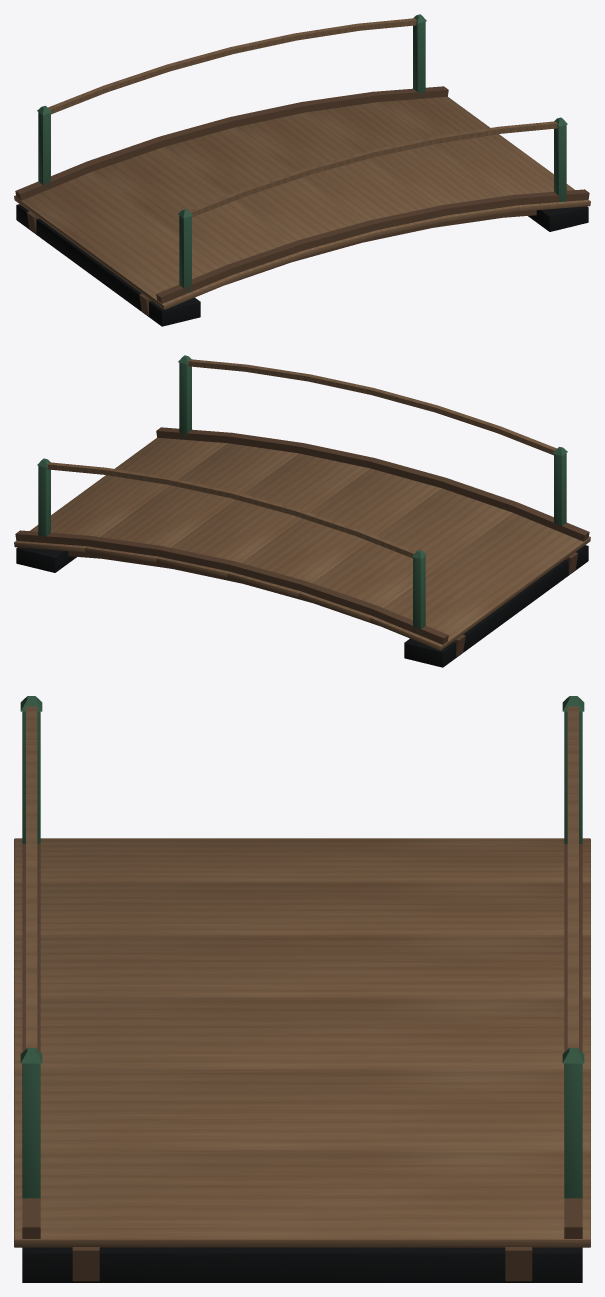
The model's file is bridge_path.glb.
3 views of the same model, one above another, from view 1: azimuth 30°, elevation 25°; view 2: azimuth 150°, elevation 25°; view 3: azimuth 270°, elevation 25° (orthographic). The views are drawn at different scales.
Visible parts, largest first — view 1: bridge_path_body; view 2: bridge_path_body; view 3: bridge_path_body.
Part boxes in pixels (<box>): bridge_path_body: <box>14,14,590,326</box>; bridge_path_body: <box>14,355,590,667</box>; bridge_path_body: <box>14,696,590,1282</box>.
Size of the model in its own units: 4.66 by 1.26 by 2.8.
4 materials, 2 textured.
